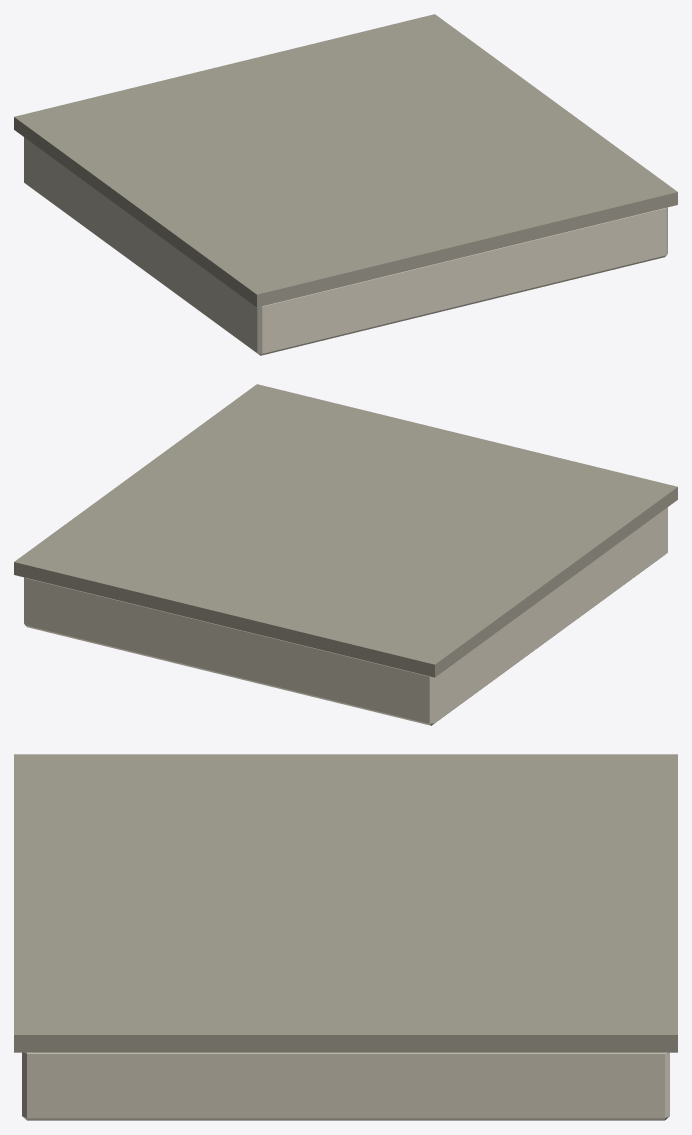
Rendered from arch.plinth.glb.
The picture shows the model from 3 angles, top to bottom: view 1: azimuth 30°, elevation 25°; view 2: azimuth 150°, elevation 25°; view 3: azimuth 270°, elevation 25°; orthographic projection. The views are drawn at different scales.
Visible parts, largest first — view 1: arch.plinth; view 2: arch.plinth; view 3: arch.plinth.
Part boxes in pixels (x1,y1,x2,y2): arch.plinth: [14, 14, 677, 355]; arch.plinth: [14, 384, 677, 725]; arch.plinth: [14, 754, 677, 1120].
Bounding box in the file's own units: 4.1 × 0.62 × 4.1.
